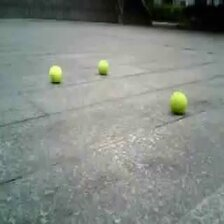tennis: (169, 92, 189, 114), (49, 65, 60, 83), (97, 60, 108, 73)
